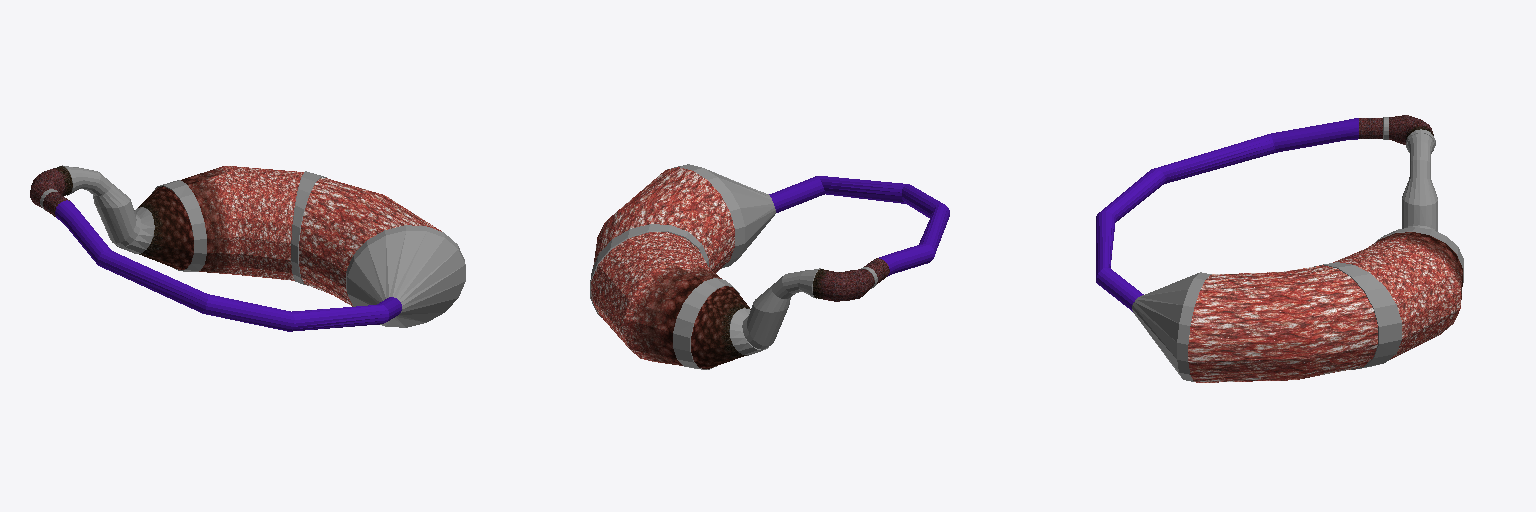
3 views of the same model, side by side, from view 1: azimuth 30°, elevation 25°; view 2: azimuth 150°, elevation 25°; view 3: azimuth 270°, elevation 25° (orthographic).
Visible parts, largest first — view 1: 3_25, 3_75, 3_5, 4, 3_0, 2, M_3_0_3_5, M_3_25_3_5, 1, M_2_3; view 2: 3_25, 3_5, 4, 3_0, 3_75, 2, M_3_0_3_5, 1, M_3_25_3_5, M_3_4, M_2_3; view 3: 3_5, 3_25, 4, 3_75, 2, M_3_25_3_5, M_3_4, 1.
Part boxes in pixels (bbox=[...]): 3_25: bbox=[181, 166, 303, 280]; 3_75: bbox=[346, 225, 465, 327]; 3_5: bbox=[299, 177, 441, 306]; 4: bbox=[65, 211, 388, 331]; 3_0: bbox=[138, 186, 193, 269]; 2: bbox=[68, 166, 141, 246]; M_3_0_3_5: bbox=[152, 180, 206, 271]; M_3_25_3_5: bbox=[291, 171, 326, 285]; 1: bbox=[30, 166, 72, 207]; M_2_3: bbox=[116, 207, 154, 253]; 3_25: bbox=[591, 232, 721, 365]; 3_5: bbox=[593, 167, 734, 273]; 4: bbox=[819, 176, 949, 273]; 3_0: bbox=[691, 286, 750, 368]; 3_75: bbox=[667, 164, 775, 268]; 2: bbox=[742, 269, 814, 349]; M_3_0_3_5: bbox=[673, 278, 739, 369]; 1: bbox=[813, 269, 874, 301]; M_3_25_3_5: bbox=[590, 224, 708, 317]; M_3_4: bbox=[769, 176, 824, 212]; M_2_3: bbox=[729, 308, 768, 355]; 3_5: bbox=[1188, 265, 1377, 382]; 3_25: bbox=[1333, 232, 1462, 359]; 4: bbox=[1096, 122, 1345, 276]; 3_75: bbox=[1132, 272, 1211, 381]; 2: bbox=[1402, 133, 1437, 231]; M_3_25_3_5: bbox=[1314, 262, 1401, 369]; M_3_4: bbox=[1096, 267, 1143, 311]; 1: bbox=[1389, 115, 1433, 144].
Bounding box in the file's own units: 10429 × 4139 × 10229.
9 materials, 5 textured.